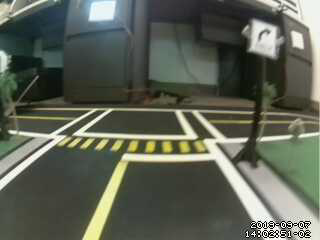Right_only_sign: (252, 19, 276, 62)
